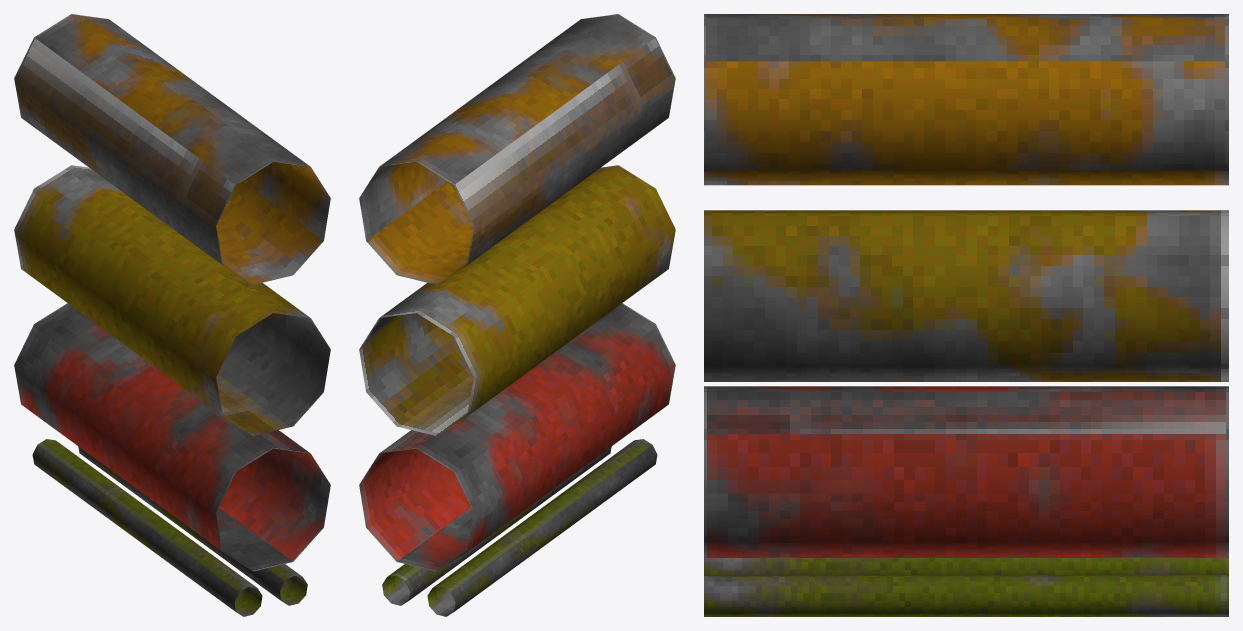
File: straight_pipes.glb
3 renders of one model, left to right at view 1: azimuth 30°, elevation 25°; view 2: azimuth 150°, elevation 25°; view 3: azimuth 270°, elevation 25°, orthographic. The views are drawn at different scales.
Visible parts, largest first — view 1: pipes; view 2: pipes; view 3: pipes.
Part boxes in pixels (x1,y1,x2,y2): pipes: [14, 14, 330, 616]; pipes: [359, 14, 675, 616]; pipes: [704, 14, 1228, 616].
Size of the model in its own units: 0.6751 by 2.52 by 2.06.
1 material, 1 textured.
